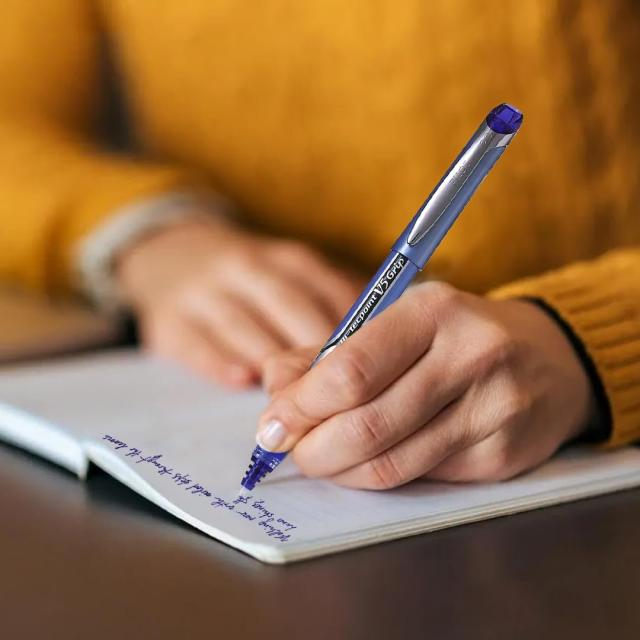pen: (225, 72, 565, 505)
